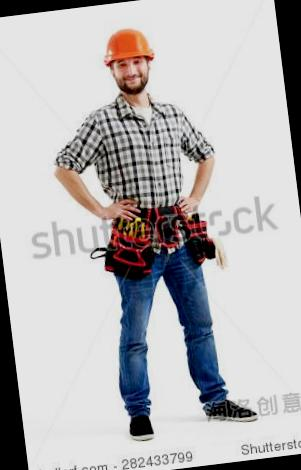helmet: (94, 24, 165, 79)
no_vest: (75, 92, 221, 244)
person: (50, 17, 266, 440)
